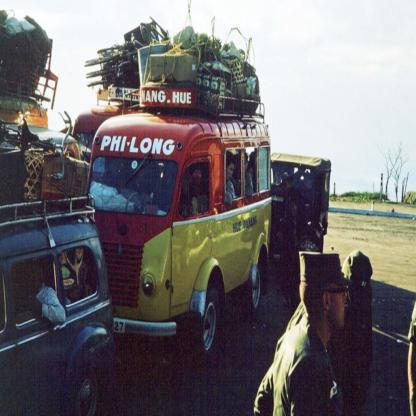Bus: (85, 88, 276, 361), (70, 79, 142, 169), (0, 122, 79, 198), (0, 81, 48, 124)
